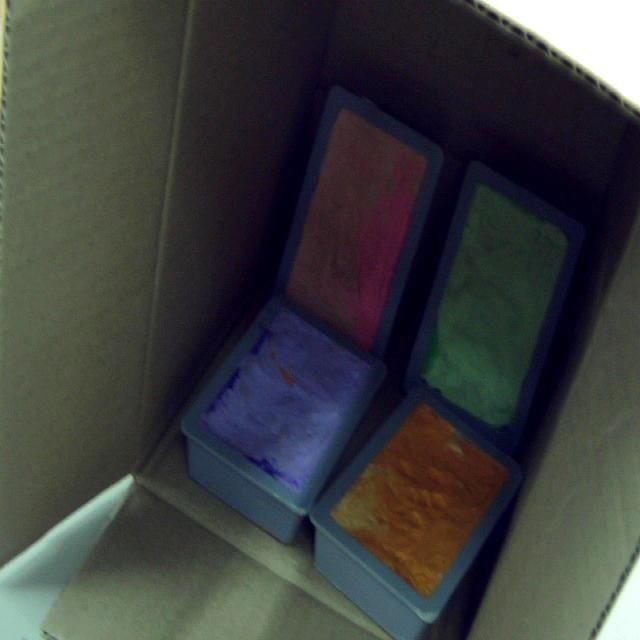block: (311, 387, 523, 640), (406, 161, 586, 451), (183, 306, 385, 544), (284, 90, 444, 352)
